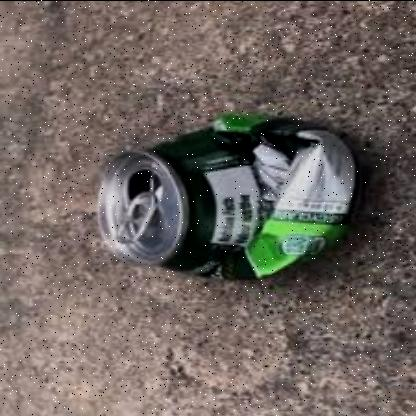Can: (95, 112, 364, 282)
